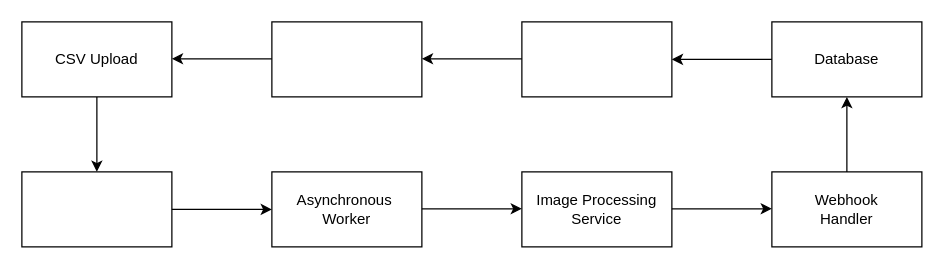
Image size: 944x269. Some labels were removed from this diagram. The shapes that lost their labels are listed below. From the top down, each one's centre as x and y in pixels, then its label:
At point 346,59: "User".
At point 596,59: "Status API".
At point 96,209: "Validation Service".
